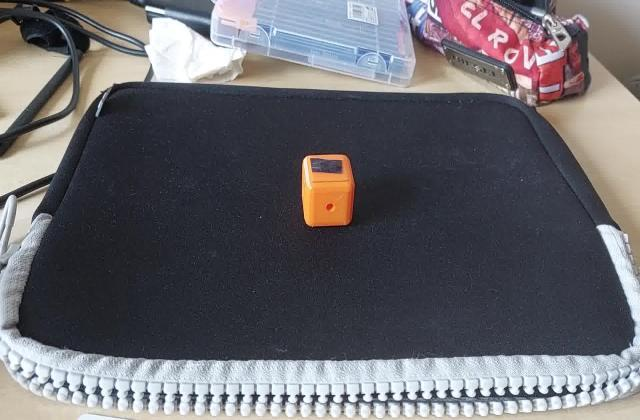black: (308, 155, 347, 176)
cube: (298, 152, 354, 230)
